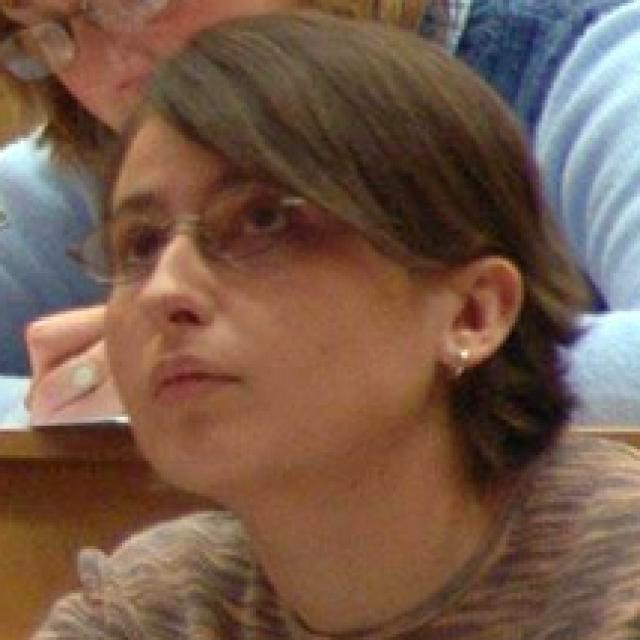Looking forward: (101, 108, 448, 498)
